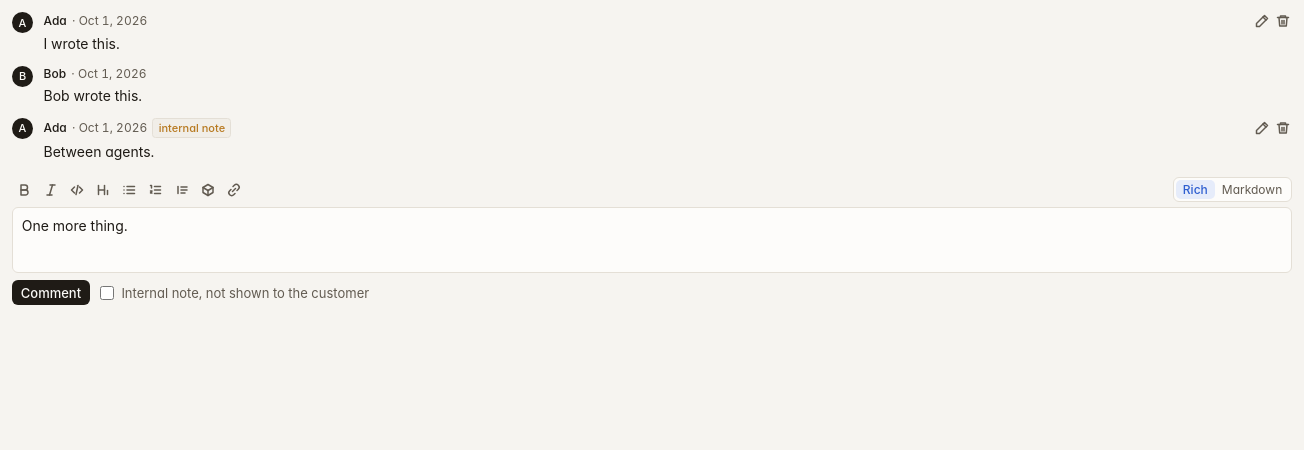
Scenario: changing a comment › saves an edit in place and keeps an internal note internal
Click the 2nd button named "Edit comment": click(1262, 128) [1254, 119, 1271, 136]
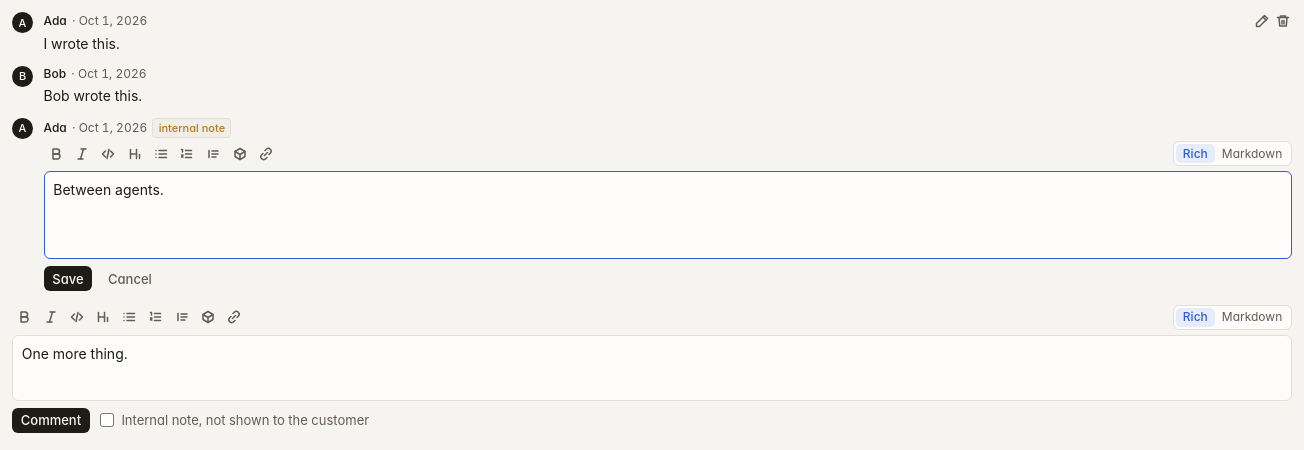
In the field with id "comment-note": (668, 215) [44, 171, 1292, 259], type " Call them back."
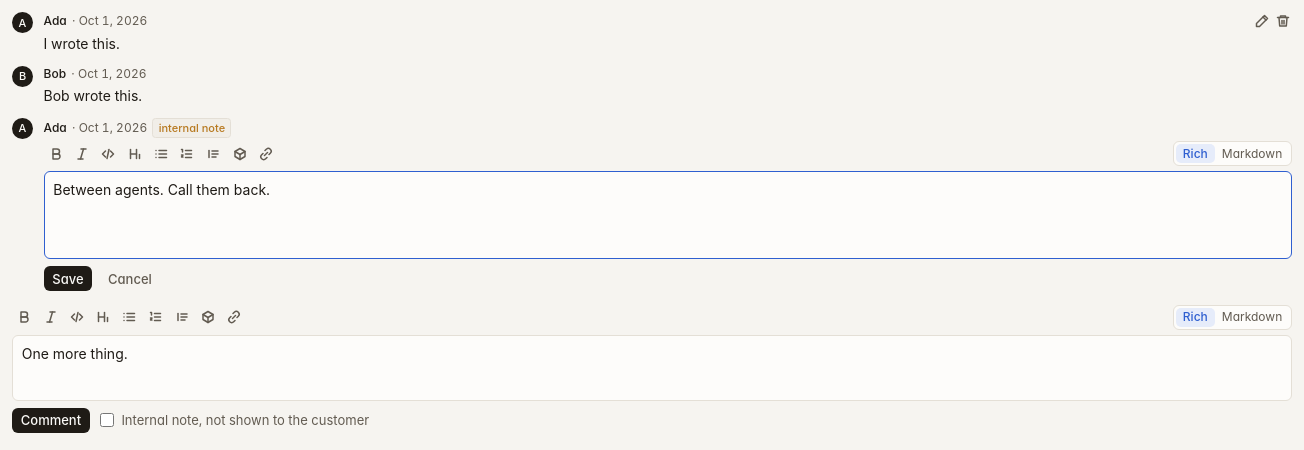
Click the button "Save": click(68, 279) [44, 266, 92, 291]
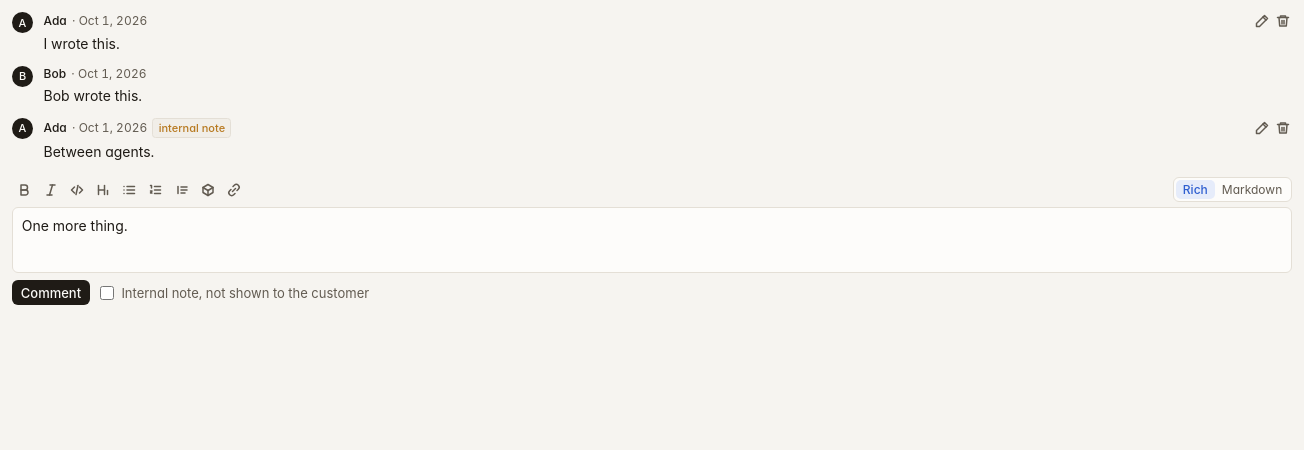
Check: the text "internal note" is shown, box [152, 118, 231, 138]
Check: the field with id "comment-note" is gone
